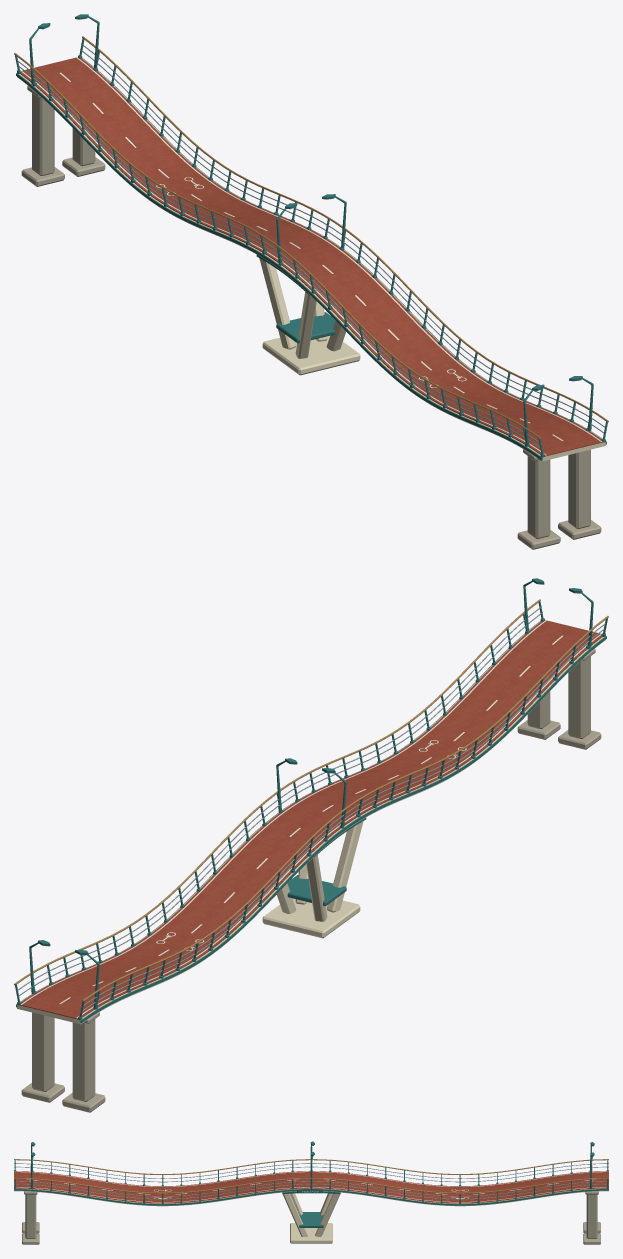
3 renders of one model, top to bottom at view 1: azimuth 30°, elevation 25°; view 2: azimuth 150°, elevation 25°; view 3: azimuth 270°, elevation 25°, orthographic. The views are drawn at different scales.
Visible parts, largest first — view 1: Fine grit cycle surfacing, Contour rails, Chamfered pier, Outsplayed balusters, Ribbon fascia, Prestressed ribbon, Splayed saddle fins, Pile cap, Central saddle footing, Edge paint, Baluster shoes, Path light stems (+1 smaller); view 2: Fine grit cycle surfacing, Contour rails, Chamfered pier, Outsplayed balusters, Ribbon fascia, Prestressed ribbon, Splayed saddle fins, Pile cap, Central saddle footing, Edge paint, Baluster shoes, Path light stems (+1 smaller); view 3: Fine grit cycle surfacing, Contour rails, Prestressed ribbon, Ribbon fascia, Edge paint, Chamfered pier, Outsplayed balusters, Splayed saddle fins, Central saddle footing, Pile cap, Baluster shoes, Pier collar (+2 smaller).
Part boxes in pixels (x1,y1,x2,y2): Fine grit cycle surfacing: (20, 57, 602, 456); Contour rails: (14, 36, 608, 449); Chamfered pier: (32, 93, 590, 538); Outsplayed balusters: (15, 38, 607, 454); Ribbon fascia: (16, 58, 606, 460); Prestressed ribbon: (17, 58, 605, 461); Splayed saddle fins: (259, 258, 345, 358); Pile cap: (21, 157, 601, 549); Central saddle footing: (262, 335, 360, 375); Edge paint: (21, 57, 602, 455); Baluster shoes: (17, 55, 605, 457); Path light stems: (29, 22, 593, 446); Fine grit cycle surfacing: (20, 620, 602, 1019); Contour rails: (14, 599, 608, 1012); Chamfered pier: (32, 656, 590, 1101); Outsplayed balusters: (15, 601, 607, 1017); Ribbon fascia: (16, 621, 606, 1022); Prestressed ribbon: (17, 621, 605, 1024); Splayed saddle fins: (276, 821, 363, 921); Pile cap: (21, 720, 601, 1112); Central saddle footing: (262, 898, 360, 938); Edge paint: (21, 620, 601, 1018); Baluster shoes: (17, 618, 605, 1020); Path light stems: (29, 585, 593, 1009); Fine grit cycle surfacing: (14, 1171, 608, 1203); Contour rails: (14, 1159, 608, 1199); Prestressed ribbon: (14, 1188, 608, 1206); Ribbon fascia: (14, 1189, 608, 1205); Edge paint: (14, 1171, 608, 1202); Chamfered pier: (25, 1194, 597, 1238); Outsplayed balusters: (14, 1160, 608, 1202); Splayed saddle fins: (283, 1193, 339, 1236); Central saddle footing: (290, 1223, 332, 1243); Pile cap: (22, 1222, 600, 1244); Baluster shoes: (14, 1170, 608, 1203); Pier collar: (299, 1212, 323, 1227).
Size of the model in its own units: 4.93 by 10.33 by 64.02.
9 materials, 1 textured.
